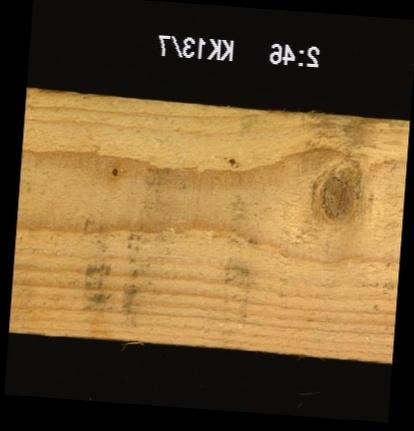dry_knot: (110, 160, 121, 177)
small_knot: (224, 149, 238, 166)
sound_knot: (309, 165, 367, 226)
